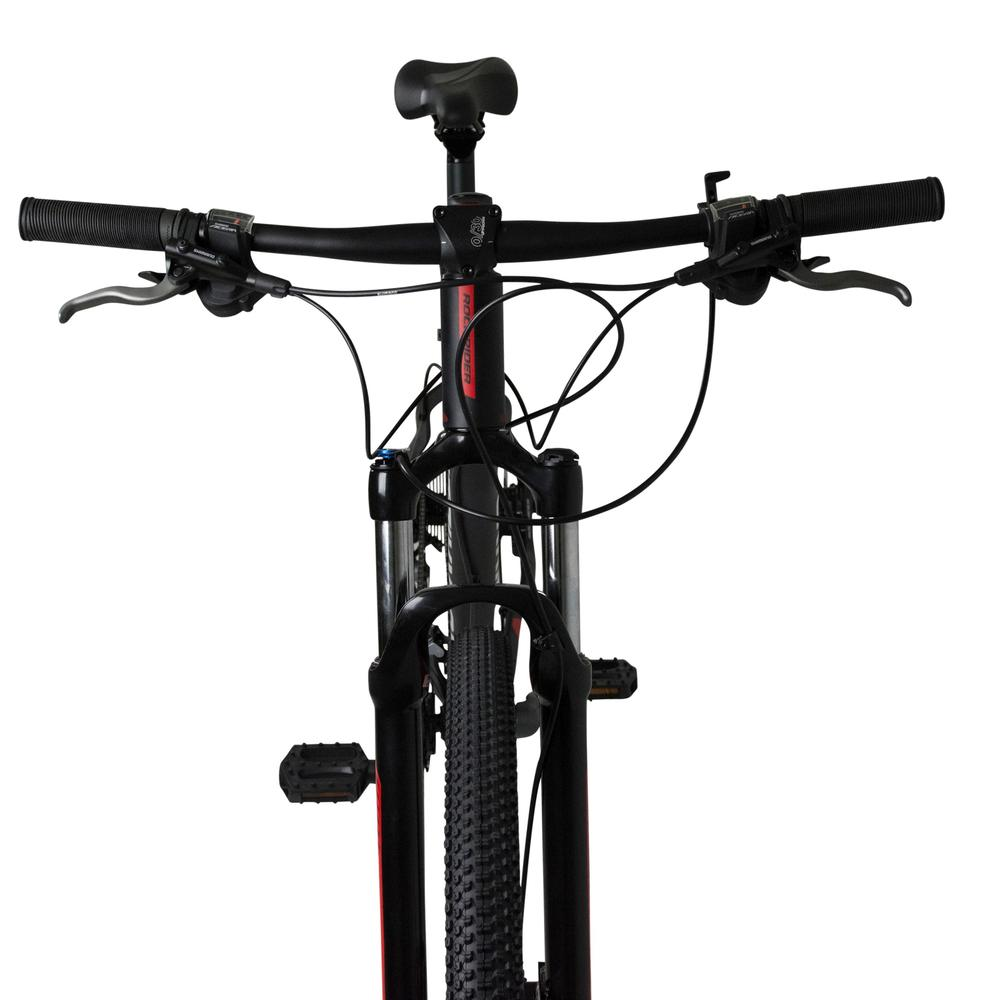MountainBike: (11, 57, 955, 1000)
